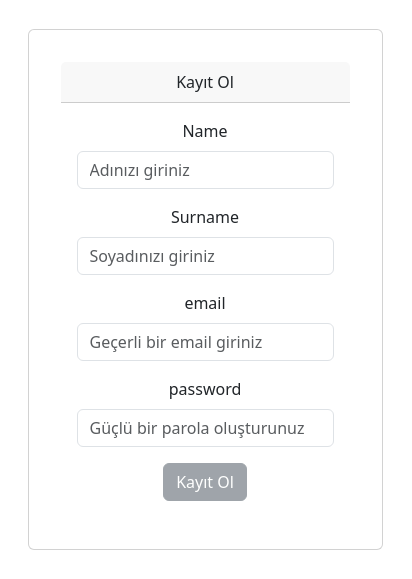
Test: Login Page › Error Messages › soyad 2 karakterse error mesajı yazsın
In the field with test id "soyad-input": (206, 256) [77,237,334,275], type "gü"
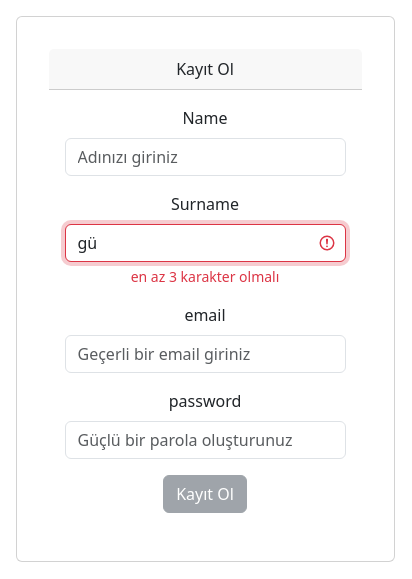
Now the text "en az 3 karakter olmalı" is shown, box [131,267,279,286]
